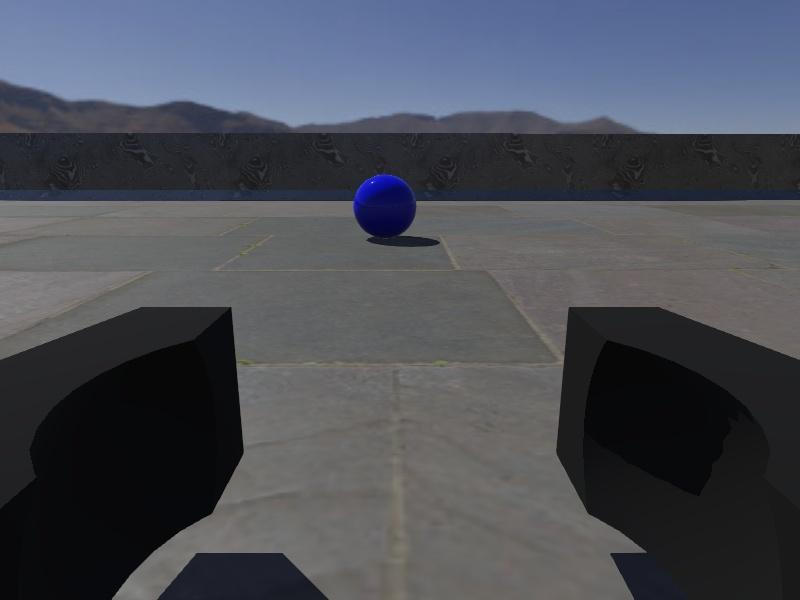blue ball: (352, 172, 417, 239)
